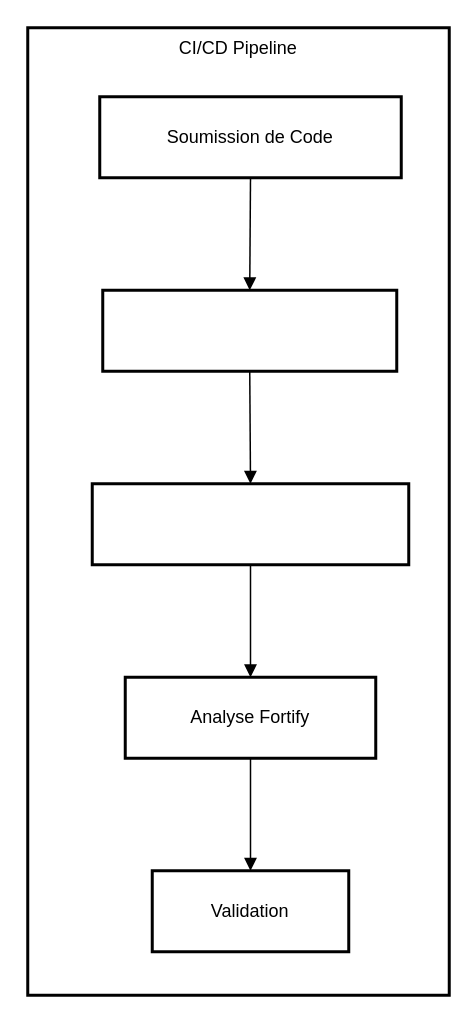
The diagram is 476 pixels wide and 1022 high, and some of its shapes have lost their labels. The shapes that lost their labels are listed below. From the top down, each one's box as (x1, y1, x2, y2) in pixels, then its label:
(100, 288, 398, 372): Analyse SonarQube
(90, 482, 410, 566): Vérification Nexus IQ
